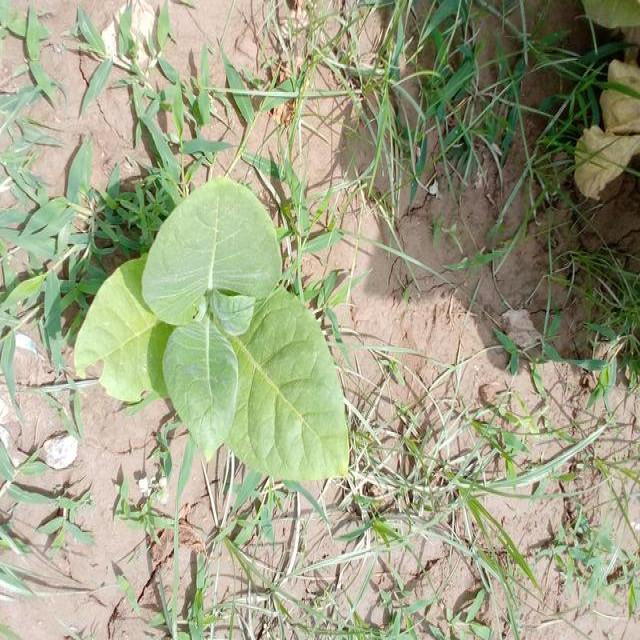crop: (96, 186, 348, 479)
